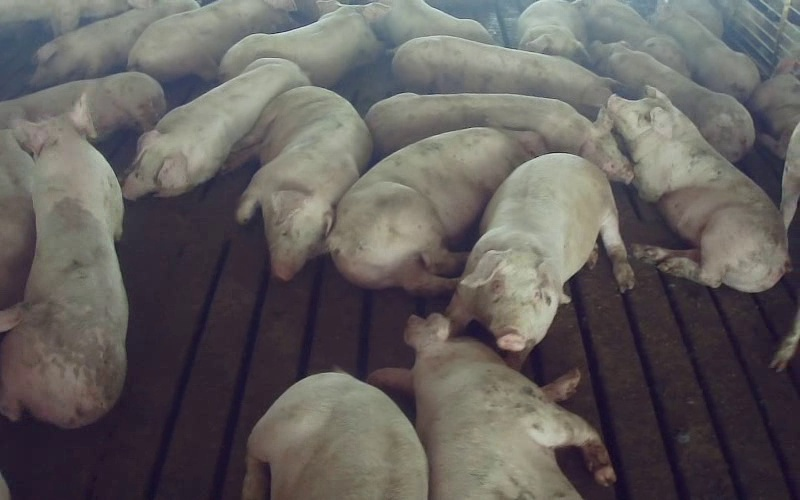pig: (369, 314, 615, 499), (0, 100, 127, 427), (446, 153, 634, 367), (608, 88, 789, 291), (327, 128, 545, 294), (226, 86, 371, 280), (124, 59, 309, 199), (365, 93, 632, 183), (242, 373, 426, 499), (590, 42, 754, 160), (220, 0, 389, 87), (0, 72, 165, 137), (653, 4, 759, 102), (584, 0, 689, 76), (518, 0, 587, 64)
